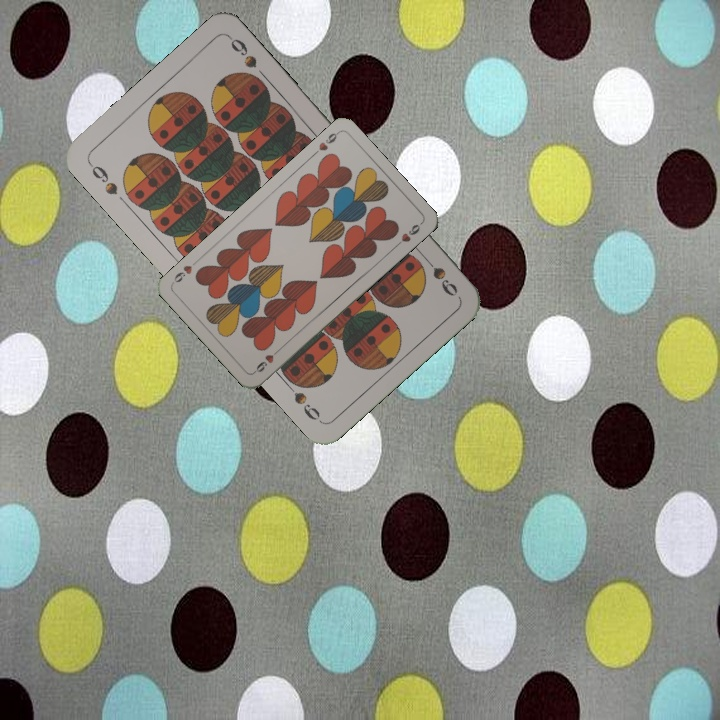H9: (250, 344, 283, 375), (308, 128, 341, 159)
S9: (417, 250, 461, 299), (85, 158, 120, 198)
